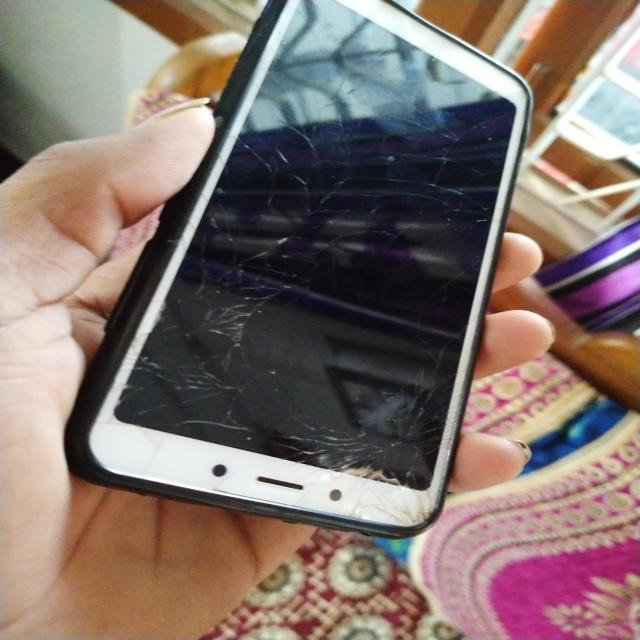phone: (52, 0, 529, 542)
